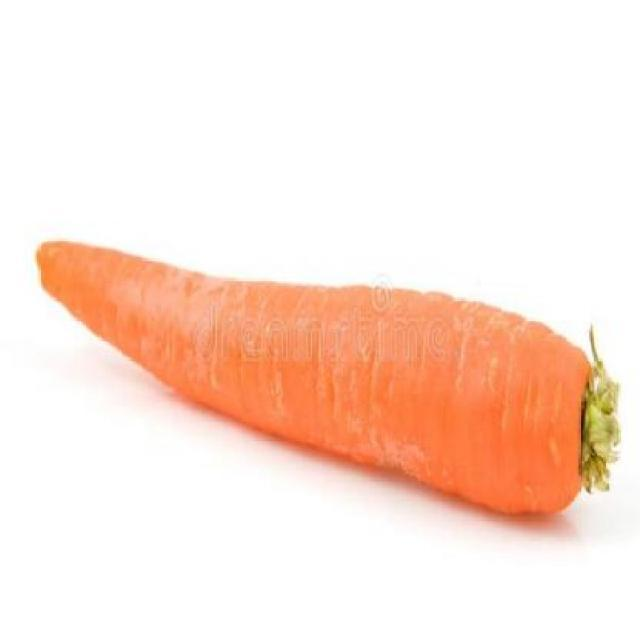carrot: (29, 223, 625, 546)
